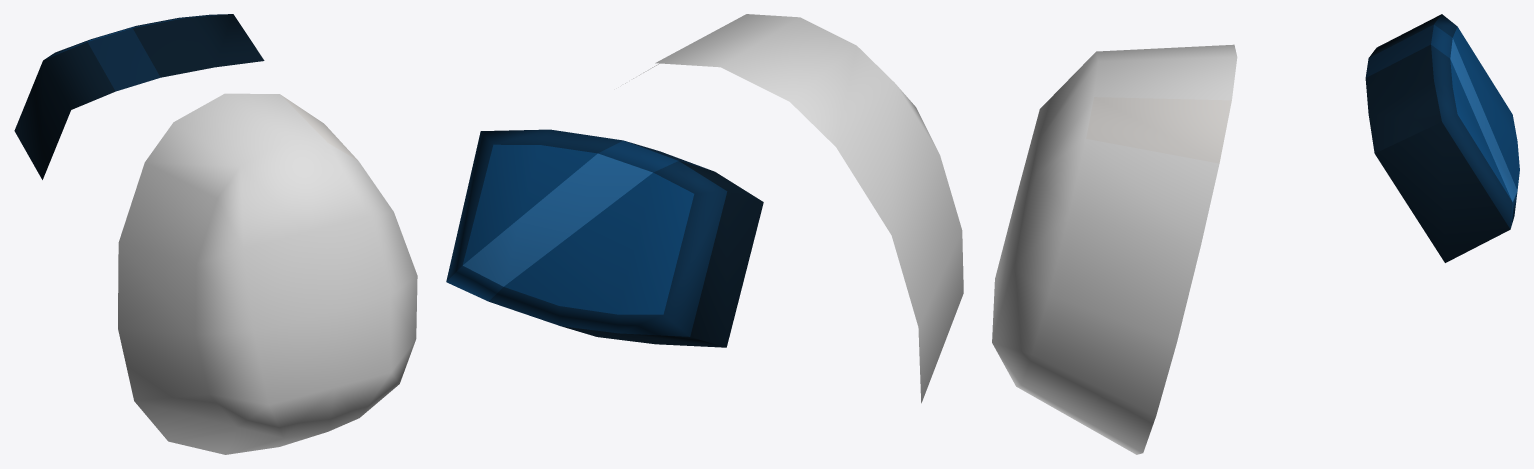
File: hat_amongEgg_01.glb
3 renders of one model, left to right at view 1: azimuth 30°, elevation 25°; view 2: azimuth 150°, elevation 25°; view 3: azimuth 270°, elevation 25°, orthographic. The views are drawn at different scales.
Parts seen in each view (by area): view 1: hat_amongEgg_01; view 2: hat_amongEgg_01; view 3: hat_amongEgg_01.
Part boxes in pixels (<box>): hat_amongEgg_01: <box>14,14,417,454</box>; hat_amongEgg_01: <box>446,14,963,403</box>; hat_amongEgg_01: <box>992,14,1519,454</box>.
Size of the model in its own units: 0.3682 by 0.4331 by 0.5396.
